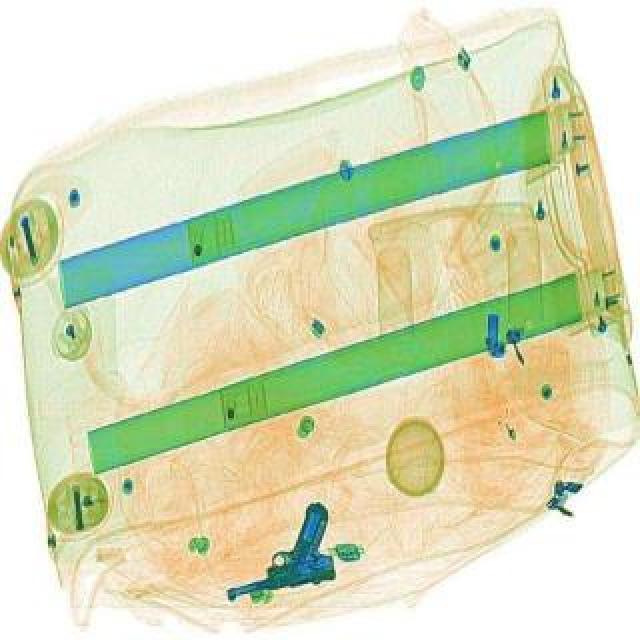gun: (206, 496, 346, 602)
